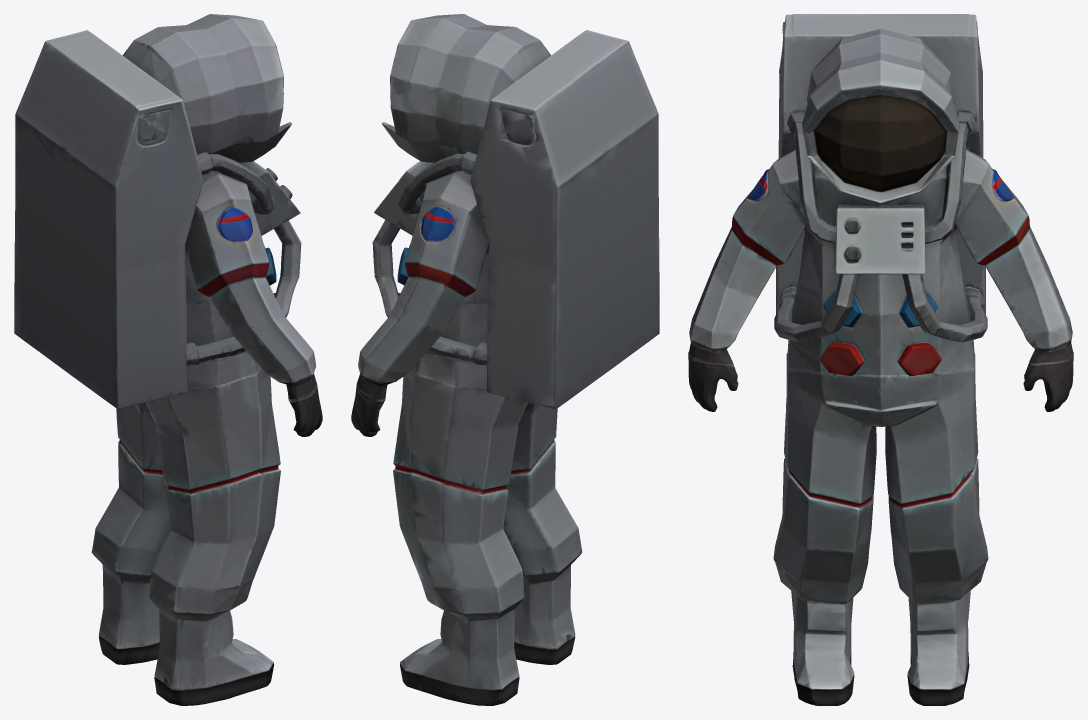
Rendered from pip-tripo-optimized.glb.
3 views of the same model, side by side, from view 1: azimuth 30°, elevation 25°; view 2: azimuth 150°, elevation 25°; view 3: azimuth 270°, elevation 25° (orthographic).
Parts seen in each view (by area): view 1: tripo_node_64a57677-1cbe-402b-8e34-9720792c6d5b; view 2: tripo_node_64a57677-1cbe-402b-8e34-9720792c6d5b; view 3: tripo_node_64a57677-1cbe-402b-8e34-9720792c6d5b.
Boxes of the visible parts, x1,y1,x2,y2 form: tripo_node_64a57677-1cbe-402b-8e34-9720792c6d5b: [14, 14, 322, 705]; tripo_node_64a57677-1cbe-402b-8e34-9720792c6d5b: [351, 14, 659, 705]; tripo_node_64a57677-1cbe-402b-8e34-9720792c6d5b: [688, 14, 1073, 705].
Bounding box in the file's own units: 0.3463 × 0.9793 × 0.5322.
1 material, 1 textured.
